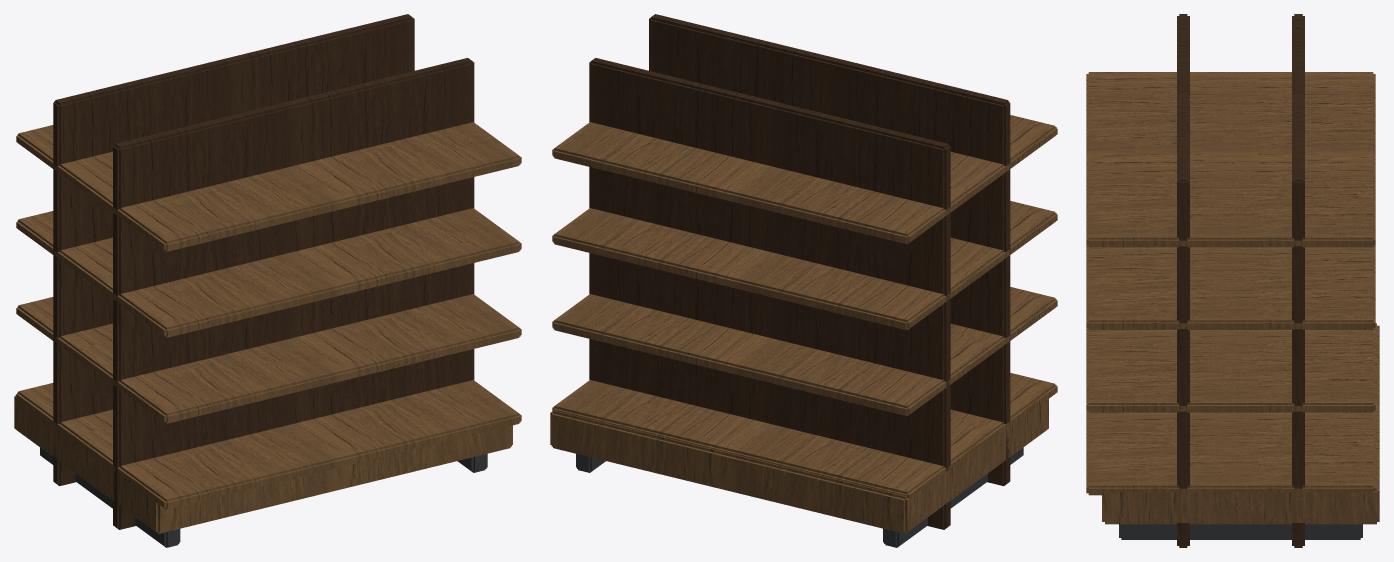
Rendered from fixture_v24_double_library.glb.
3 views of the same model, side by side, from view 1: azimuth 30°, elevation 25°; view 2: azimuth 150°, elevation 25°; view 3: azimuth 270°, elevation 25° (orthographic). The views are drawn at different scales.
Visible parts, largest first — view 1: fixture_v24_double_library_CC0_Oak_veneer.001, fixture_v24_double_library_CC0_Smoked_walnut.001, fixture_v24_double_library_CC0_Smoked_walnut.002, fixture_v24_double_library_CC0_Oak_veneer.002, fixture_v24_double_library_Anodised_graphite.001; view 2: fixture_v24_double_library_CC0_Oak_veneer.002, fixture_v24_double_library_CC0_Smoked_walnut.002, fixture_v24_double_library_CC0_Smoked_walnut.001, fixture_v24_double_library_CC0_Oak_veneer.001, fixture_v24_double_library_Anodised_graphite.002; view 3: fixture_v24_double_library_CC0_Oak_veneer.001, fixture_v24_double_library_CC0_Oak_veneer.002, fixture_v24_double_library_CC0_Smoked_walnut.002, fixture_v24_double_library_CC0_Smoked_walnut.001, fixture_v24_double_library_Anodised_graphite.001, fixture_v24_double_library_Anodised_graphite.002.
Boxes of the visible parts, <box> form: fixture_v24_double_library_CC0_Oak_veneer.001: <box>74,122,521,533</box>; fixture_v24_double_library_CC0_Smoked_walnut.001: <box>113,58,474,529</box>; fixture_v24_double_library_CC0_Smoked_walnut.002: <box>53,14,414,486</box>; fixture_v24_double_library_CC0_Oak_veneer.002: <box>14,125,112,489</box>; fixture_v24_double_library_Anodised_graphite.001: <box>101,453,487,547</box>; fixture_v24_double_library_CC0_Oak_veneer.002: <box>550,122,997,533</box>; fixture_v24_double_library_CC0_Smoked_walnut.002: <box>589,58,950,529</box>; fixture_v24_double_library_CC0_Smoked_walnut.001: <box>649,14,1010,486</box>; fixture_v24_double_library_CC0_Oak_veneer.001: <box>950,115,1057,488</box>; fixture_v24_double_library_Anodised_graphite.002: <box>576,454,958,547</box>; fixture_v24_double_library_CC0_Oak_veneer.001: <box>1086,72,1261,524</box>; fixture_v24_double_library_CC0_Oak_veneer.002: <box>1203,72,1379,524</box>; fixture_v24_double_library_CC0_Smoked_walnut.002: <box>1292,14,1304,547</box>; fixture_v24_double_library_CC0_Smoked_walnut.001: <box>1177,14,1189,547</box>; fixture_v24_double_library_Anodised_graphite.001: <box>1119,524,1245,539</box>; fixture_v24_double_library_Anodised_graphite.002: <box>1236,524,1362,539</box>.
Bounding box in the file's own units: 2 × 2.05 × 1.48.
6 materials, 4 textured.
